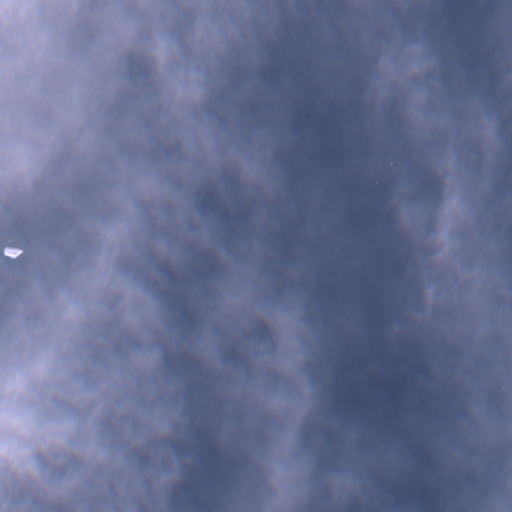Iceberg: (4, 248, 22, 257), (376, 182, 377, 183)
